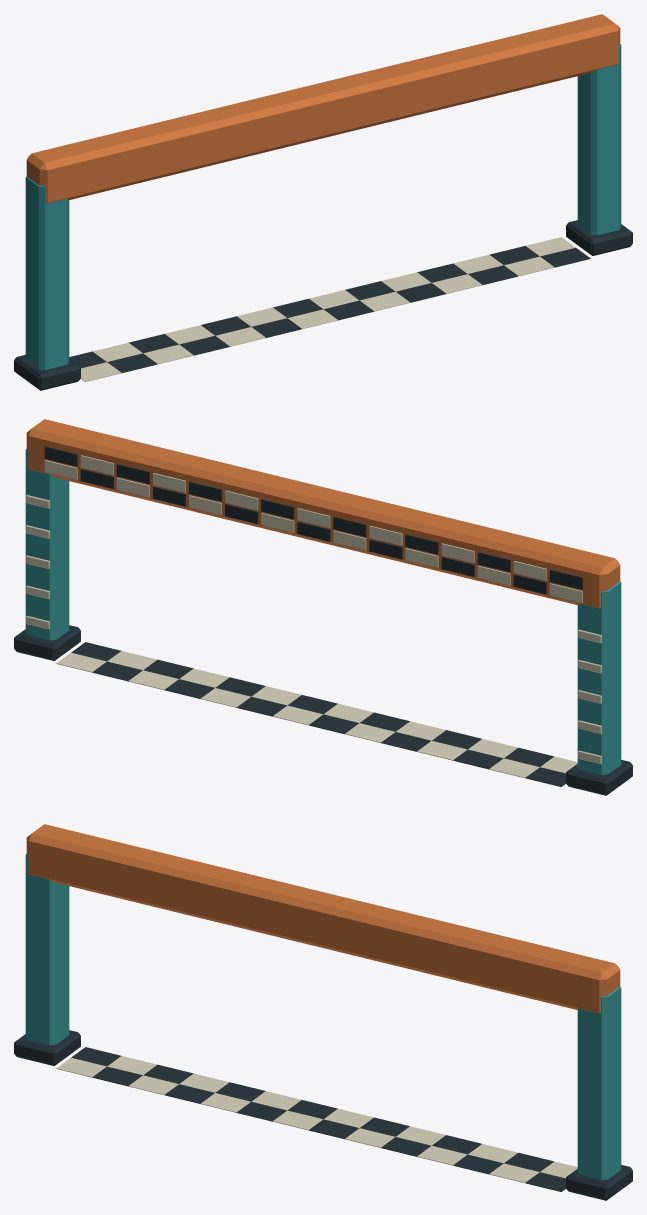
The model's file is track_arch_01.glb.
The picture shows the model from 3 angles, top to bottom: view 1: azimuth 30°, elevation 25°; view 2: azimuth 150°, elevation 25°; view 3: azimuth 330°, elevation 25°; orthographic projection.
Parts seen in each view (by area): view 1: track_arch_01__Arch; view 2: track_arch_01__Arch; view 3: track_arch_01__Arch.
Boxes of the visible parts, x1,y1,x2,y2 form: track_arch_01__Arch: (14, 14, 632, 390); track_arch_01__Arch: (14, 419, 632, 795); track_arch_01__Arch: (14, 824, 632, 1200).
Bounding box in the file's own units: 16.5 × 5.88 × 1.4.
